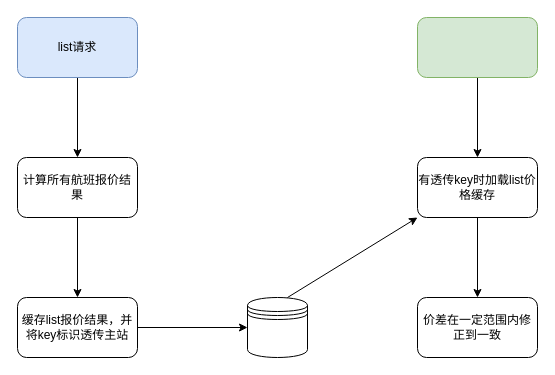
Image size: 555x375. Some labels were removed from this diagram. Each missing label, with the centre of its shape:
OTA请求: pixel 477 47
Redis: pixel 277 327
